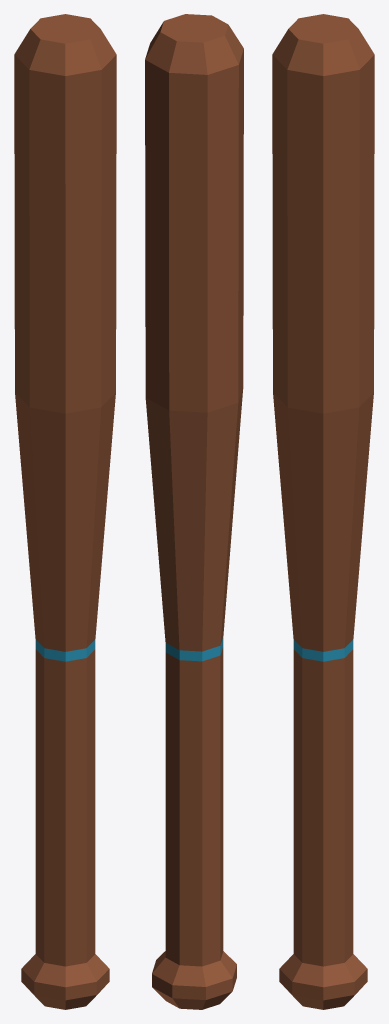
File: Bat_vc.fbx
The picture shows the model from 3 angles, left to right: view 1: azimuth 90°, elevation 25°; view 2: azimuth 150°, elevation 25°; view 3: azimuth 270°, elevation 25°; orthographic projection.
Parts seen in each view (by area): view 1: Bat_vc; view 2: Bat_vc; view 3: Bat_vc.
Boxes of the visible parts, <box> form: Bat_vc: <box>14,14,116,1009</box>; Bat_vc: <box>145,14,243,1009</box>; Bat_vc: <box>272,14,374,1009</box>.
Bounding box in the file's own units: 5.54 × 57.89 × 5.54.
